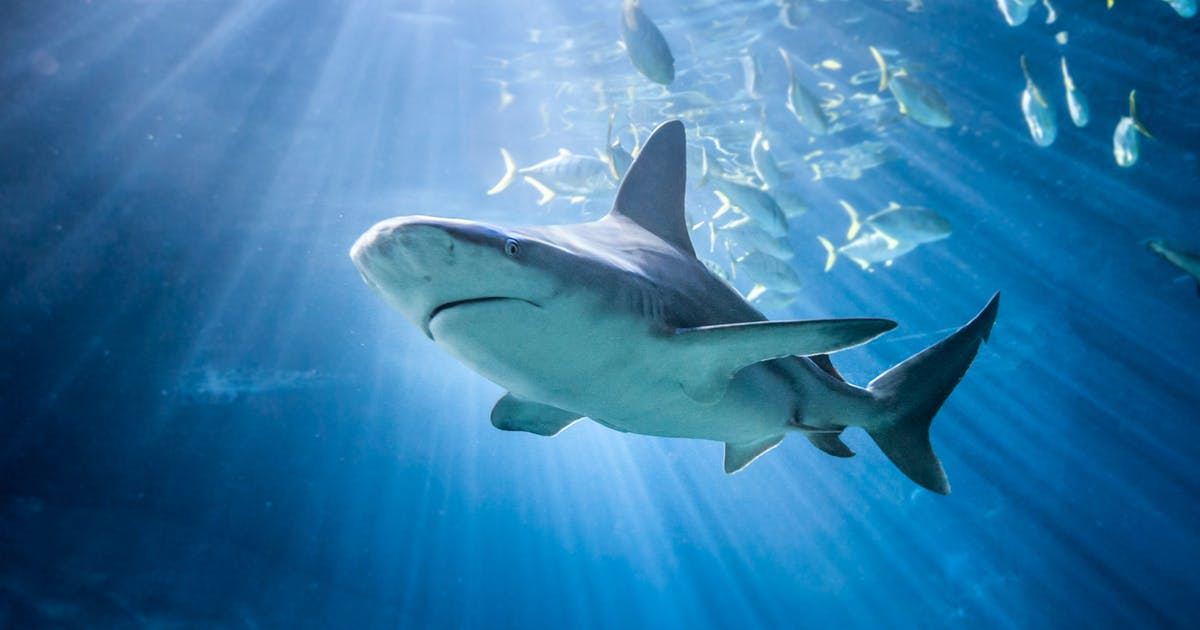shark: (338, 115, 1018, 522)
